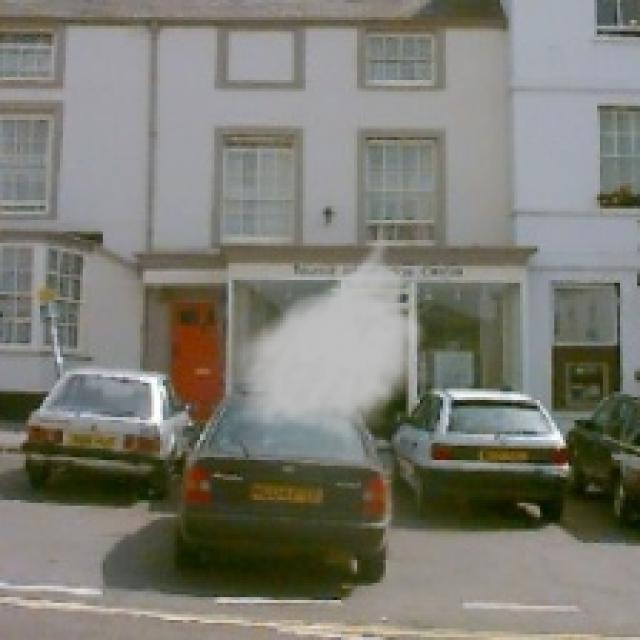smoke: (226, 223, 431, 440)
